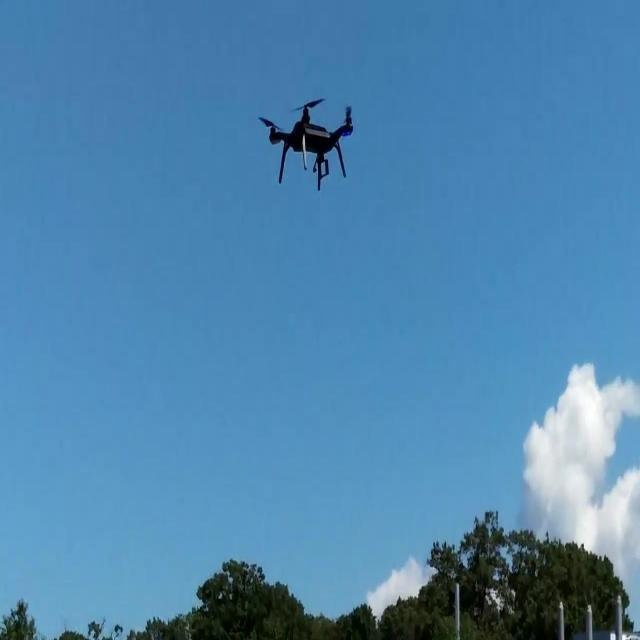UAV: (258, 98, 354, 192)
